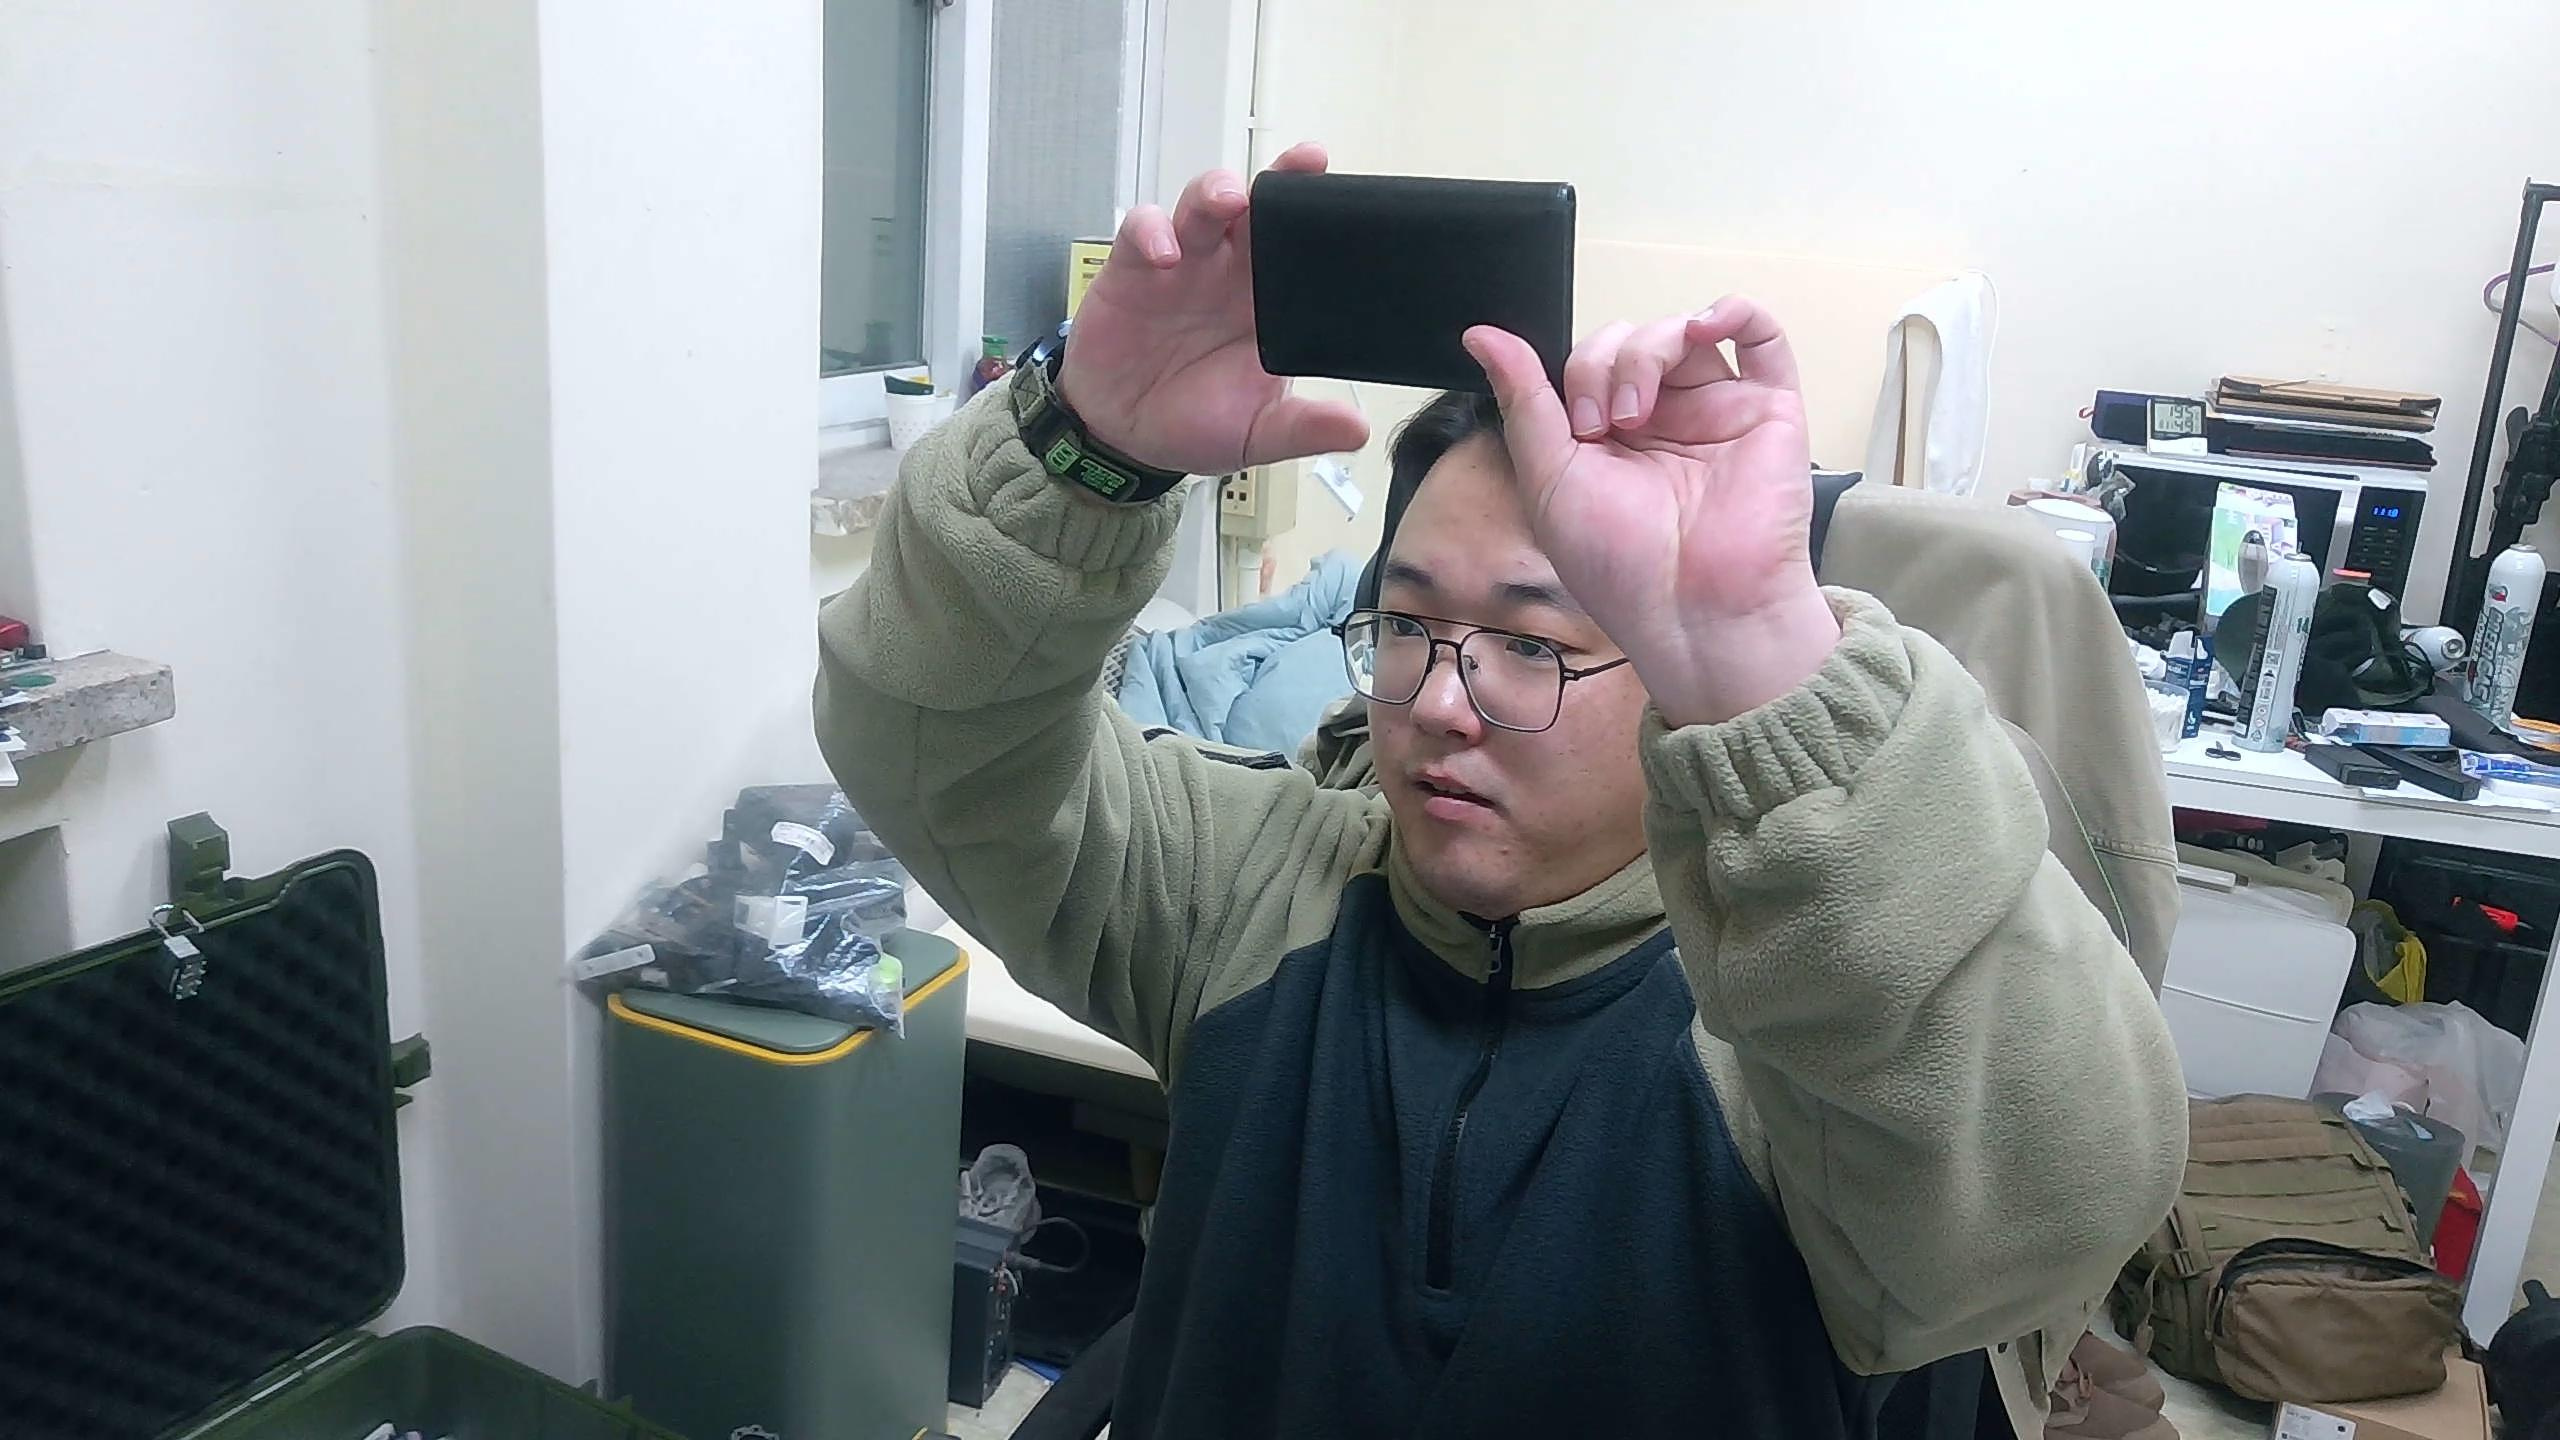Wallet: (1248, 167, 1581, 397)
